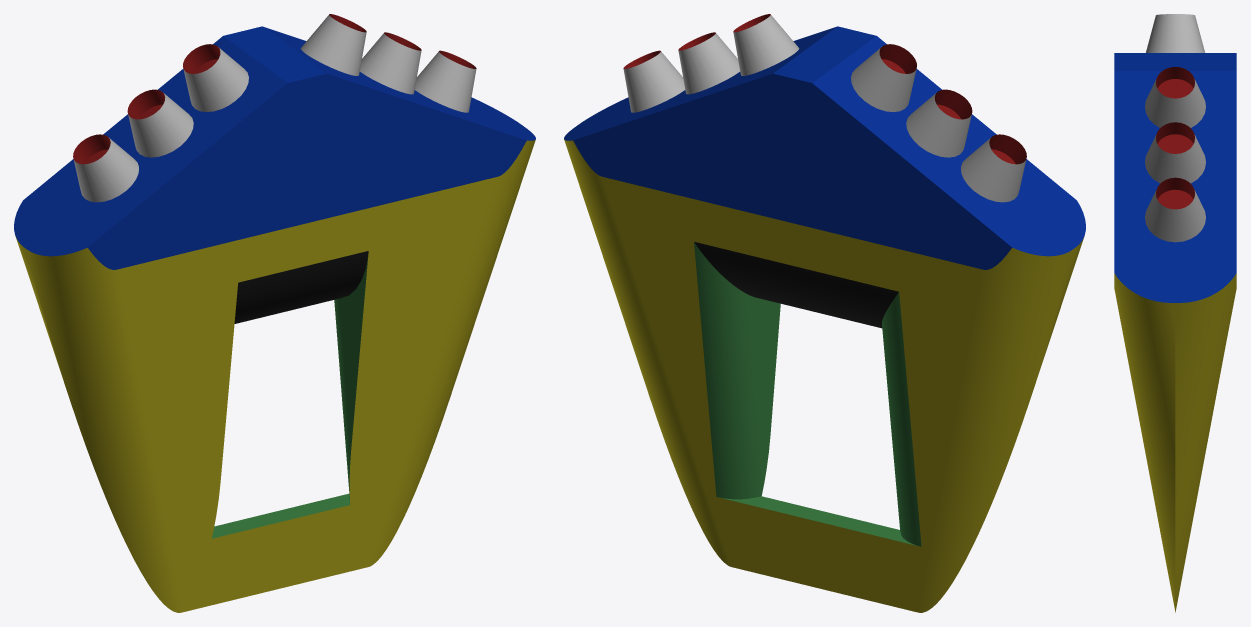
File: Ship_7.fbx
3 renders of one model, left to right at view 1: azimuth 30°, elevation 25°; view 2: azimuth 150°, elevation 25°; view 3: azimuth 270°, elevation 25°, orthographic. The views are drawn at different scales.
Parts seen in each view (by area): view 1: 3DGeom~39, 3DGeom~43, 3DGeom~42, 3DGeom~44, 3DGeom~41, 3DGeom~40; view 2: 3DGeom~39, 3DGeom~43, 3DGeom~41, 3DGeom~42, 3DGeom~44, 3DGeom~40; view 3: 3DGeom~43, 3DGeom~39, 3DGeom~42, 3DGeom~40.
Part boxes in pixels (x1,y1,x2,y2): 3DGeom~39: (15, 139, 535, 612); 3DGeom~43: (14, 26, 535, 269); 3DGeom~42: (73, 15, 476, 202); 3DGeom~44: (234, 251, 368, 323); 3DGeom~41: (212, 252, 368, 538); 3DGeom~40: (73, 14, 476, 164); 3DGeom~39: (564, 139, 1084, 612); 3DGeom~43: (564, 26, 1085, 269); 3DGeom~41: (694, 242, 921, 546); 3DGeom~42: (623, 15, 1026, 202); 3DGeom~44: (694, 242, 898, 328); 3DGeom~40: (623, 14, 1026, 164); 3DGeom~43: (1114, 53, 1236, 302); 3DGeom~39: (1114, 273, 1236, 612); 3DGeom~42: (1145, 14, 1205, 242); 3DGeom~40: (1156, 67, 1194, 209).
Size of the model in its own units: 0.1337 by 0.03 by 0.143.
